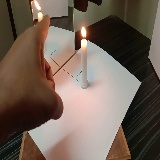fire: (82, 25, 87, 39)
